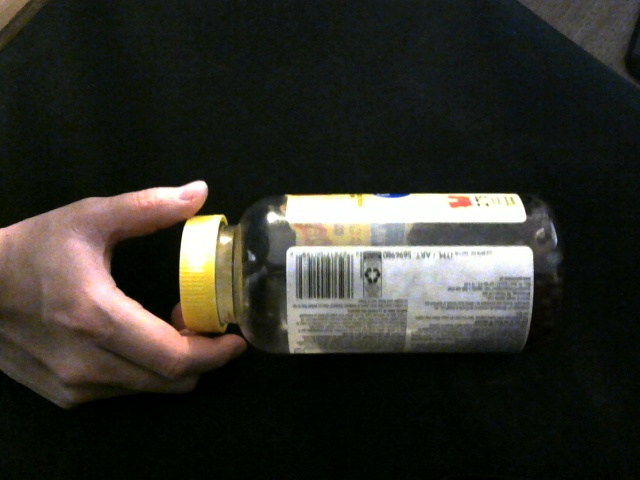Barcode: (294, 252, 356, 301)
